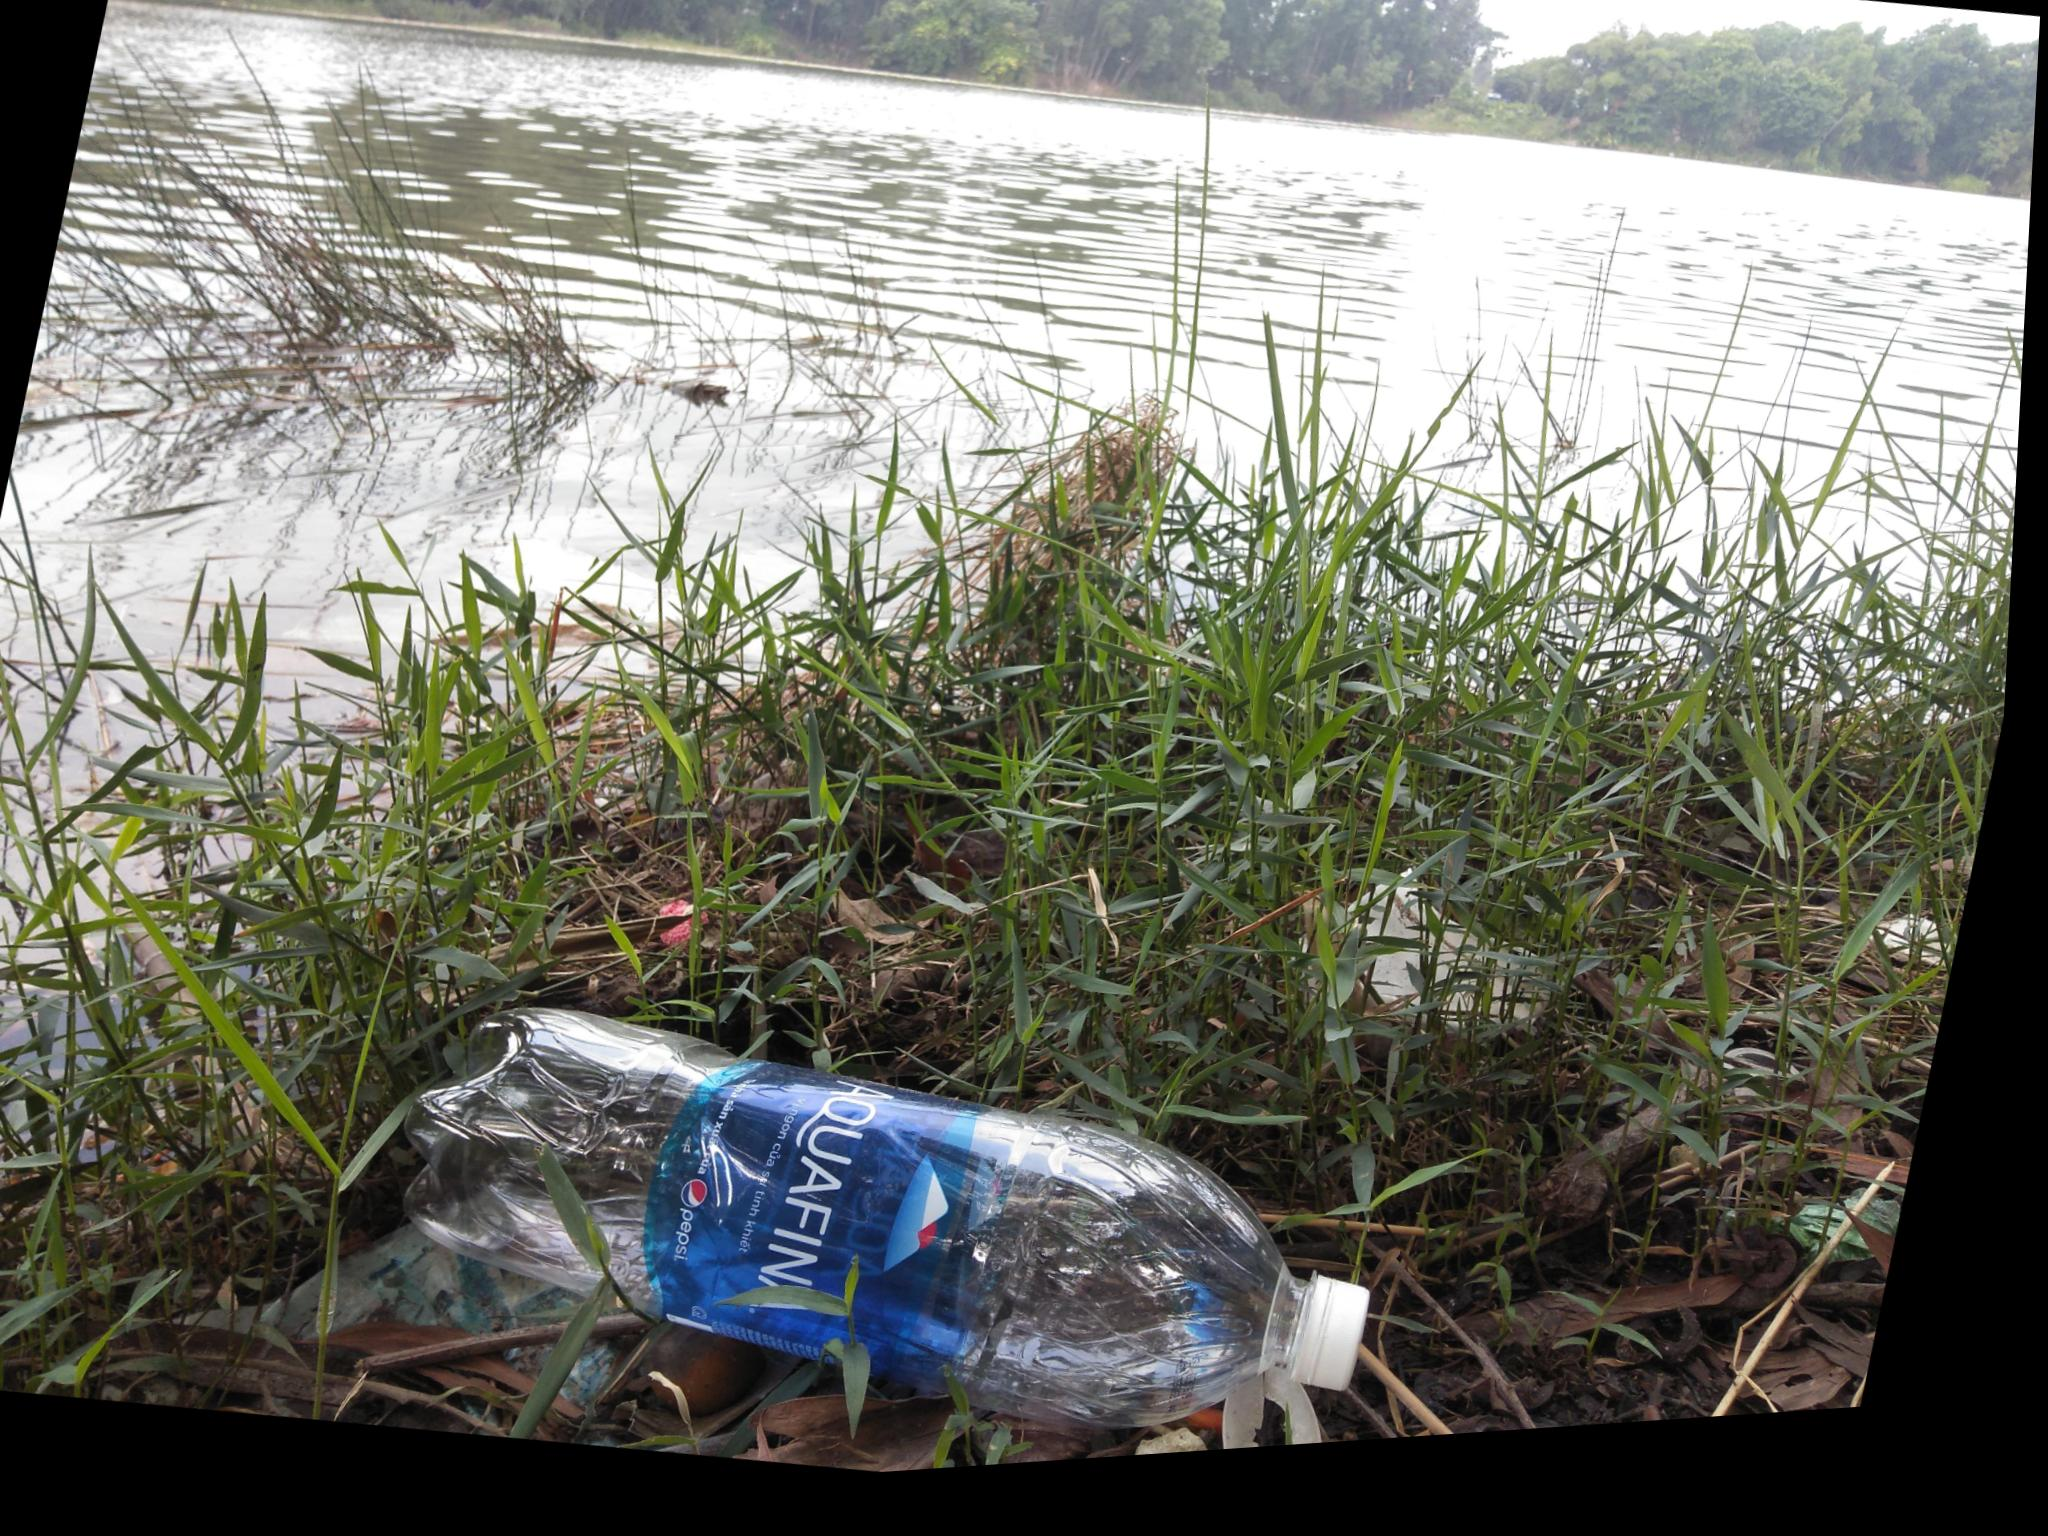plastic: (406, 1008, 1443, 1450)
